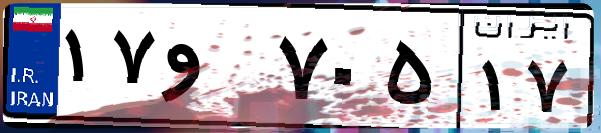0: (330, 28, 385, 110)
1: (57, 26, 110, 100), (475, 38, 525, 113)
5: (385, 28, 445, 110)
7: (270, 28, 330, 110), (525, 38, 570, 115), (110, 28, 158, 98)
و: (158, 20, 270, 120)
